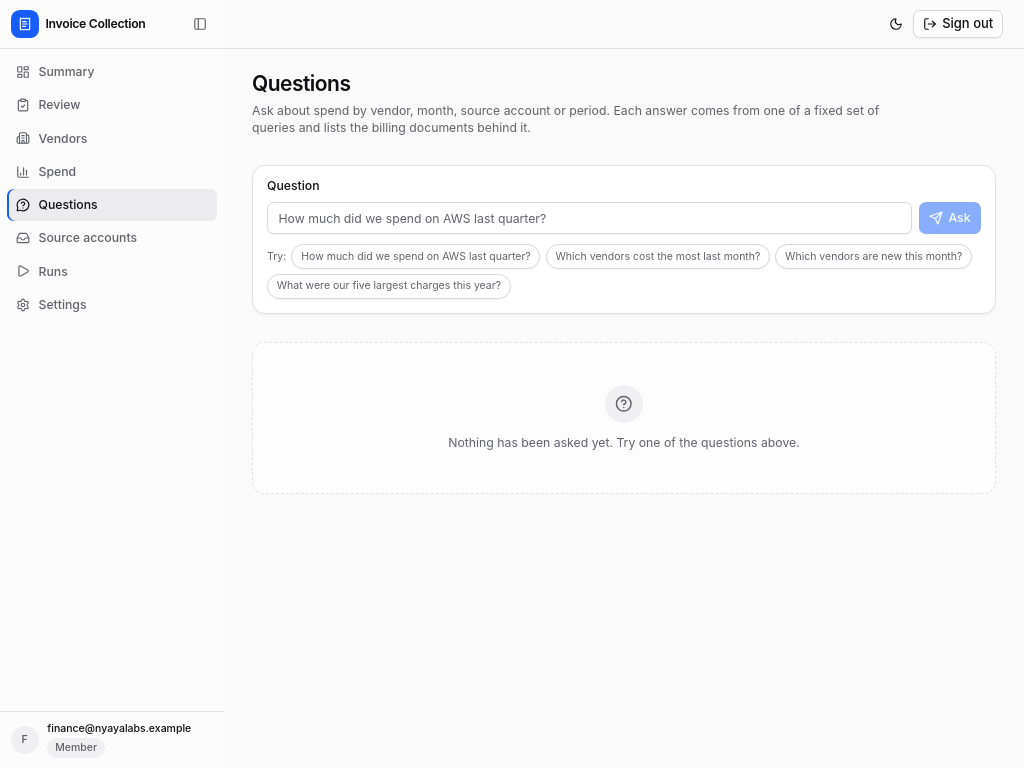
Test case: an example question fills the question box
expect the heading "Questions" is shown: met, box [252,71,350,96]
Click the button "How much did we spend on AWS last quarter?".
click(416, 257)  # box [292,244,540,269]
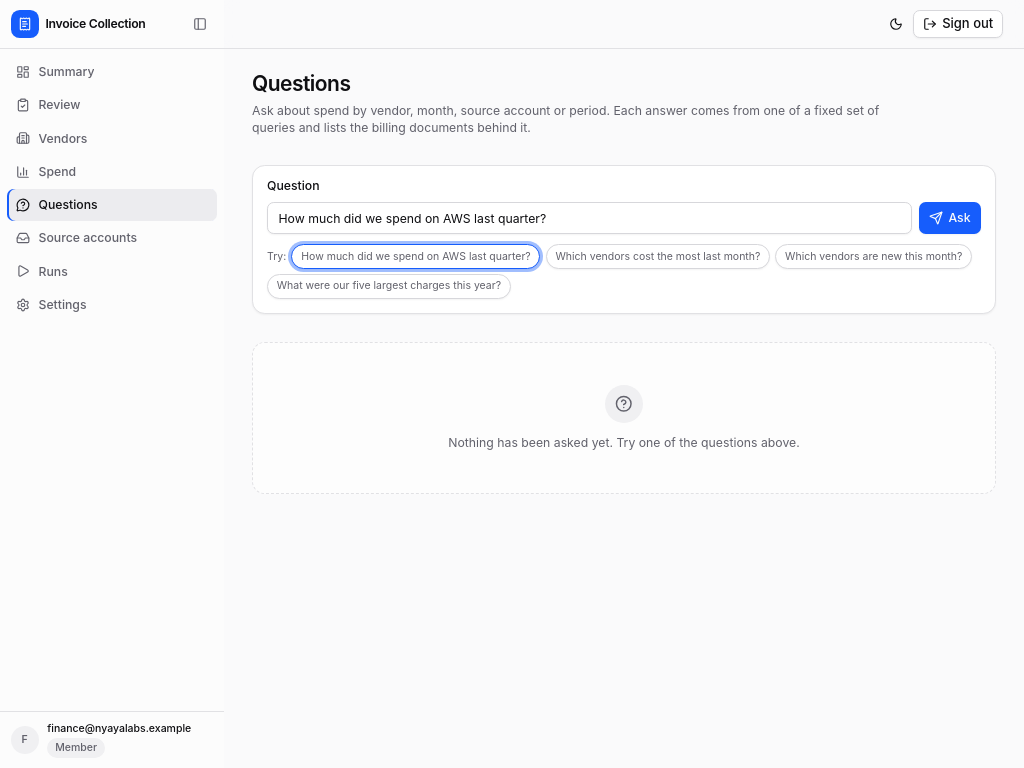
expect the field labelled "Question" holds "How much did we spend on AWS last quarter?": met, box [267,202,912,234]
